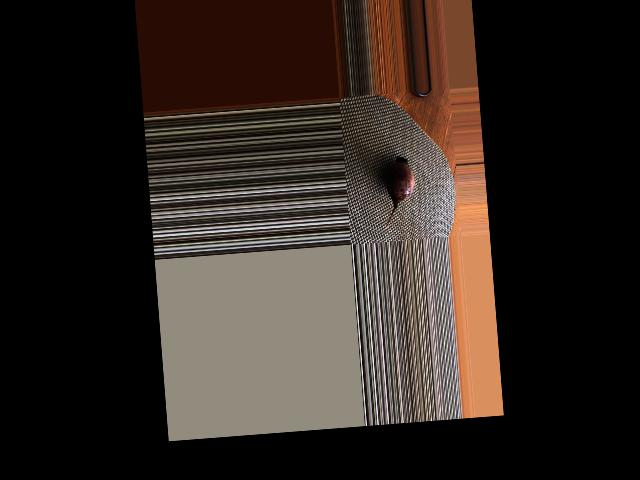beet: (377, 155, 418, 229)
